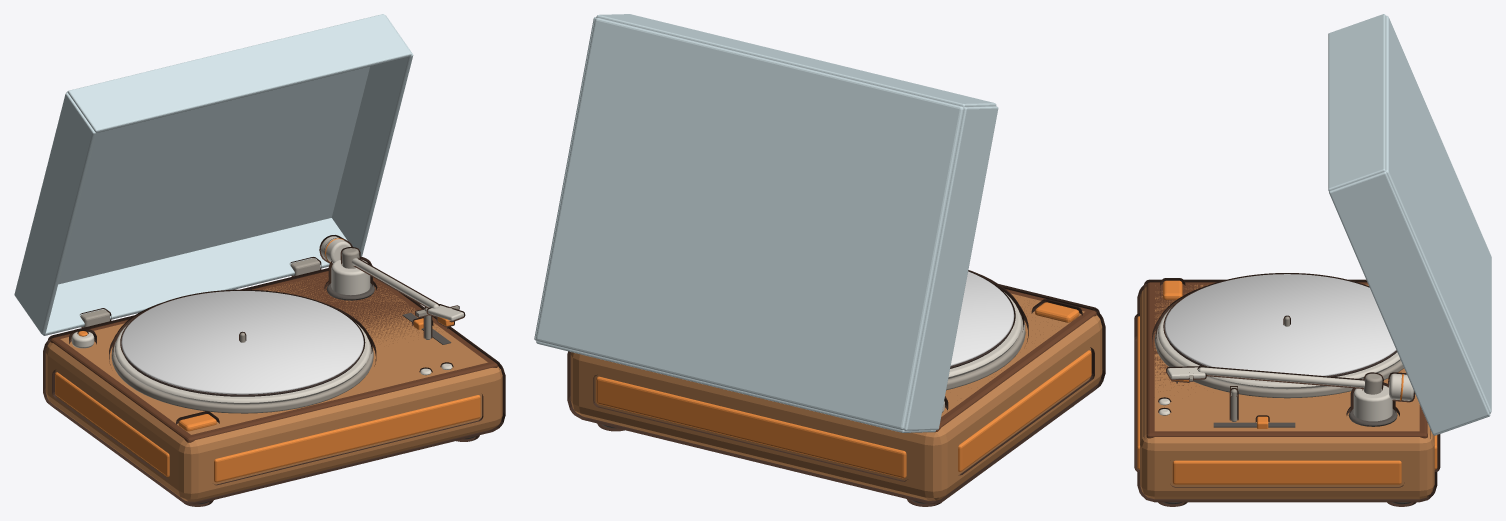
The model's file is MC_1_Turntable.fbx.
3 views of the same model, side by side, from view 1: azimuth 30°, elevation 25°; view 2: azimuth 150°, elevation 25°; view 3: azimuth 270°, elevation 25° (orthographic). The views are drawn at different scales.
Visible parts, largest first — view 1: Lid_Top, Tt_Body, Record_Default, Lid_Front, Lid_Back, Lid_Side-1, Tt_Deck, Lid_Side1, Tt_Stripe-1, Tt_SideStripe-1, Platter, Tt_PlatterBase (+5 smaller); view 2: Lid_Top, Tt_Body, Lid_Side-1, Tt_Stripe1, Lid_Front, Tt_SideStripe-1, Record_Default, Tt_Deck, Lid_Back, Platter, Tt_PlatterBase, Tt_StartBtn (+1 smaller); view 3: Tt_Body, Record_Default, Lid_Top, Lid_Side1, Lid_Front, Tt_SideStripe1, Tt_Deck, Tt_PlatterBase, Platter, Tonearm_Arm, Tt_ArmBase, Tt_Stripe-1 (+6 smaller).
Boxes of the visible parts, x1,y1,x2,y2 form: Lid_Top: [58, 66, 369, 284]; Tt_Body: [43, 269, 505, 504]; Record_Default: [120, 289, 365, 394]; Lid_Front: [68, 14, 411, 132]; Lid_Back: [43, 218, 347, 335]; Lid_Side-1: [14, 92, 96, 334]; Tt_Deck: [47, 268, 500, 442]; Lid_Side1: [331, 15, 413, 256]; Tt_Stripe-1: [214, 394, 483, 485]; Tt_SideStripe-1: [52, 369, 169, 479]; Platter: [112, 303, 372, 404]; Tt_PlatterBase: [109, 334, 376, 413]; Lid_Top: [536, 18, 963, 429]; Tt_Body: [567, 286, 1105, 504]; Lid_Side-1: [903, 106, 998, 430]; Tt_Stripe1: [593, 374, 907, 481]; Lid_Front: [596, 14, 996, 107]; Tt_SideStripe-1: [958, 347, 1094, 475]; Record_Default: [950, 270, 1015, 365]; Tt_Deck: [934, 284, 1100, 432]; Lid_Back: [536, 340, 935, 432]; Platter: [948, 270, 1024, 378]; Tt_PlatterBase: [946, 306, 1028, 390]; Tt_StartBtn: [1031, 299, 1082, 322]; Tt_Body: [1137, 280, 1437, 502]; Record_Default: [1163, 273, 1396, 376]; Lid_Top: [1385, 15, 1491, 413]; Lid_Side1: [1329, 171, 1489, 434]; Lid_Front: [1328, 14, 1385, 191]; Tt_SideStripe1: [1170, 460, 1403, 487]; Tt_Deck: [1143, 279, 1430, 438]; Tt_PlatterBase: [1152, 317, 1403, 398]; Platter: [1155, 286, 1400, 389]; Tonearm_Arm: [1197, 366, 1364, 388]; Tt_ArmBase: [1350, 382, 1395, 421]; Tt_Stripe-1: [1134, 313, 1139, 471].
Size of the model in its own units: 0.4739 by 0.4649 by 0.4367.
